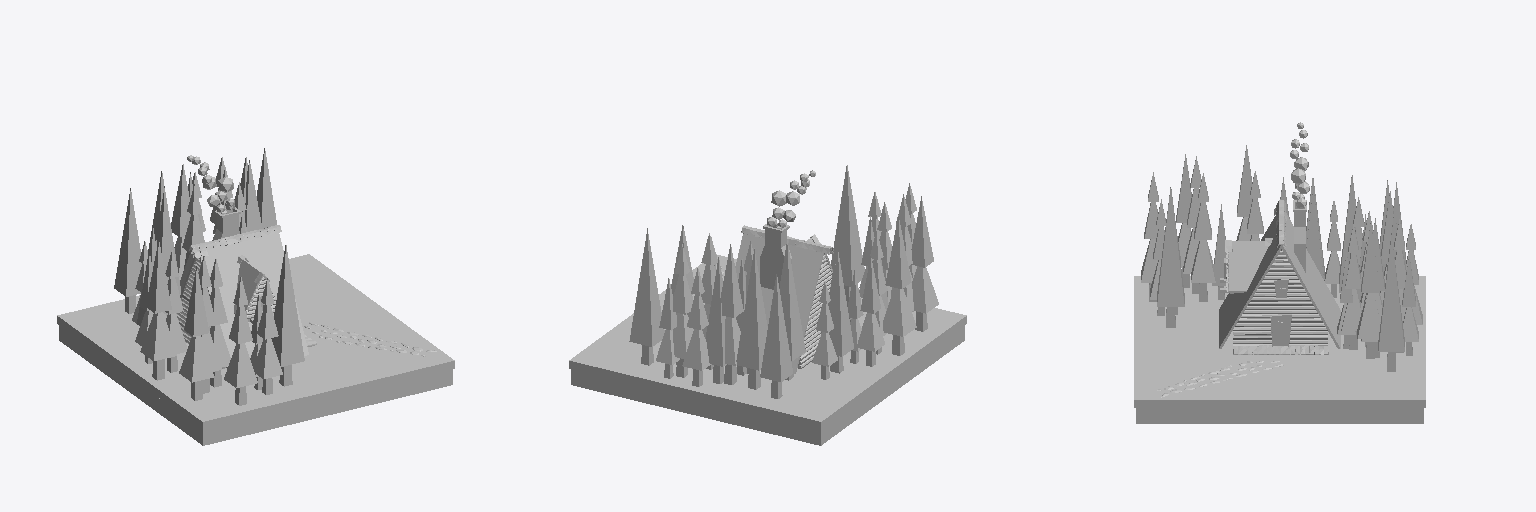
Rendered from WoodScene.obj.
The picture shows the model from 3 angles: view 1: azimuth 30°, elevation 25°; view 2: azimuth 150°, elevation 25°; view 3: azimuth 270°, elevation 25°; orthographic projection.
Visible parts, largest first — view 1: Куб, Куб.006, Куб.013.002, Куб.014.007, Куб.014.008, Куб.012.008, Куб.013.005, Куб.012.005, Куб.012.007, Куб.012.009, Куб.014.003, Куб.012.010 (+10 smaller); view 2: Куб, Куб.006, Куб.013, Куб.013.003, Куб.014.007, Куб.013.002, Куб.013.005, Куб.014.008, Куб.014.003, Куб.012.003, Куб.012.000, Куб.013.007 (+13 smaller); view 3: Куб, Цилиндр.001, Куб.006, Куб.013.002, Куб.013, Куб.014.001, Куб.012.007, Куб.002, Куб.012.001, Куб.012.008, Куб.014.008, Куб.012.010 (+16 smaller).
Boxes of the visible parts, x1,y1,x2,y2 form: Куб: [57, 254, 454, 445]; Куб.006: [180, 233, 308, 368]; Куб.013.002: [271, 245, 304, 386]; Куб.014.007: [140, 241, 176, 380]; Куб.014.008: [179, 266, 213, 400]; Куб.012.008: [224, 277, 257, 405]; Куб.013.005: [114, 188, 141, 313]; Куб.012.005: [253, 278, 282, 394]; Куб.012.007: [210, 259, 230, 387]; Куб.012.009: [165, 250, 187, 372]; Куб.014.003: [171, 164, 190, 279]; Куб.012.010: [199, 256, 221, 393]; Куб: [569, 254, 966, 445]; Куб.006: [735, 234, 851, 373]; Куб.013: [629, 228, 664, 365]; Куб.013.003: [736, 248, 767, 389]; Куб.014.007: [883, 215, 916, 355]; Куб.013.002: [831, 165, 864, 306]; Куб.013.005: [760, 274, 792, 398]; Куб.014.008: [911, 196, 938, 331]; Куб.014.003: [721, 244, 743, 384]; Куб.012.003: [682, 268, 710, 386]; Куб.012.000: [673, 244, 692, 377]; Куб.013.007: [829, 252, 853, 373]; Куб: [1134, 276, 1425, 423]; Цилиндр.001: [1233, 249, 1327, 346]; Куб.006: [1219, 213, 1340, 348]; Куб.013.002: [1157, 187, 1184, 327]; Куб.013: [1378, 236, 1404, 371]; Куб.014.001: [1357, 223, 1380, 358]; Куб.012.007: [1191, 173, 1215, 301]; Куб.002: [1229, 241, 1268, 291]; Куб.012.001: [1341, 224, 1361, 349]; Куб.012.008: [1141, 172, 1158, 301]; Куб.014.008: [1176, 154, 1191, 287]; Куб.012.010: [1183, 156, 1201, 293].
Bounding box in the file's own units: 3.28 × 2.65 × 3.28.